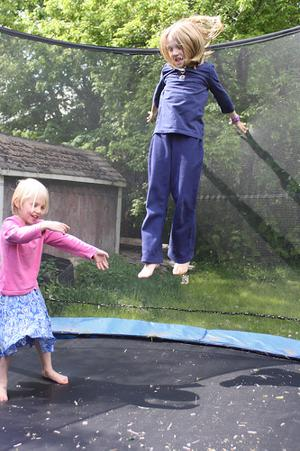person: (135, 18, 244, 279)
